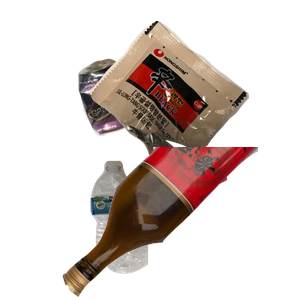glass: (60, 147, 300, 300)
metal: (75, 56, 198, 185)
plastic: (88, 158, 229, 300)
trash: (86, 18, 300, 194)
